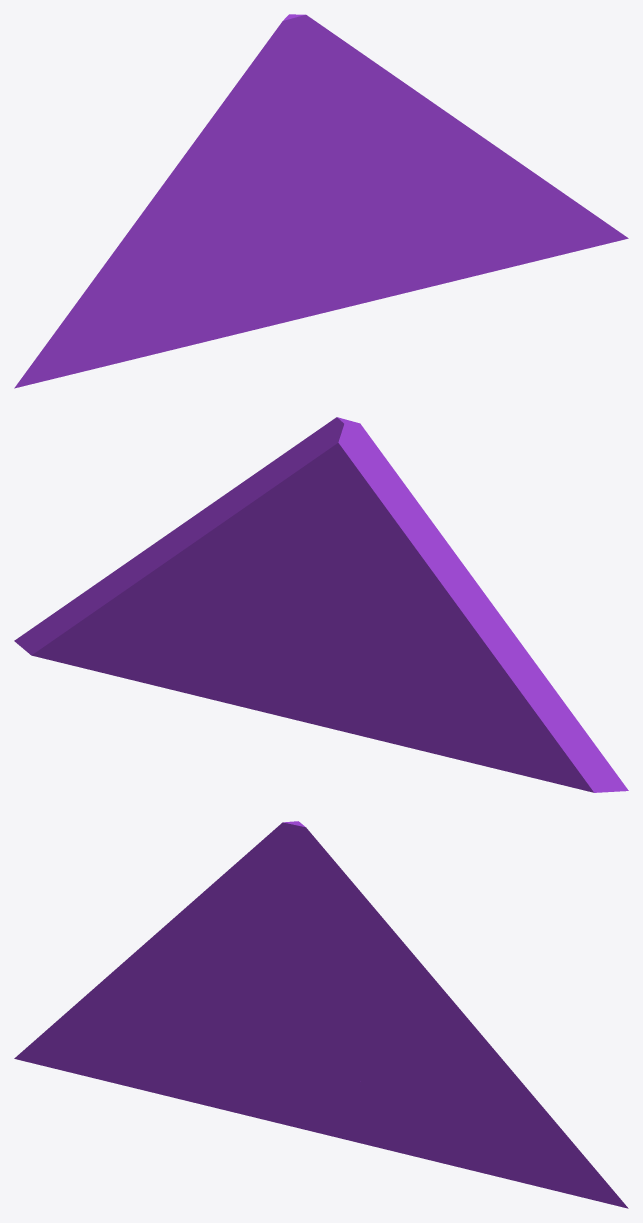
File: Window_40_6_chunks.fbx
3 views of the same model, one above another, from view 1: azimuth 30°, elevation 25°; view 2: azimuth 150°, elevation 25°; view 3: azimuth 330°, elevation 25° (orthographic).
Parts seen in each view (by area): view 1: Window_40_6_0, Window_40_6_2, Window_40_6_5, Window_40_6_3, Window_40_6_6; view 2: Window_40_6_0, Window_40_6_2, Window_40_6_3, Window_40_6_5, Window_40_6_1, Window_40_6_6, Window_40_6_4; view 3: Window_40_6_0, Window_40_6_2, Window_40_6_5, Window_40_6_3, Window_40_6_6.
Part boxes in pixels (box(x1,y1,x2,y2)): Window_40_6_0: box(14, 49, 304, 388); Window_40_6_2: box(262, 14, 531, 171); Window_40_6_5: box(409, 169, 628, 282); Window_40_6_3: box(175, 228, 448, 349); Window_40_6_6: box(224, 165, 434, 279); Window_40_6_0: box(327, 451, 628, 792); Window_40_6_2: box(111, 417, 380, 579); Window_40_6_3: box(184, 648, 446, 756); Window_40_6_5: box(14, 574, 216, 692); Window_40_6_1: box(89, 565, 345, 615); Window_40_6_6: box(232, 614, 393, 682); Window_40_6_4: box(212, 615, 273, 648); Window_40_6_0: box(14, 840, 304, 1097); Window_40_6_2: box(262, 821, 531, 1094); Window_40_6_5: box(409, 1045, 628, 1208); Window_40_6_3: box(175, 1052, 448, 1164); Window_40_6_6: box(224, 978, 434, 1091).
Bounding box in the file's own units: 907 × 427 × 27.2.
